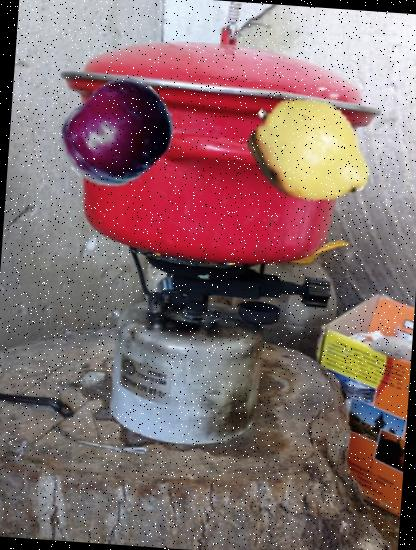Plum: (56, 73, 178, 194)
Quince: (242, 81, 379, 219)
